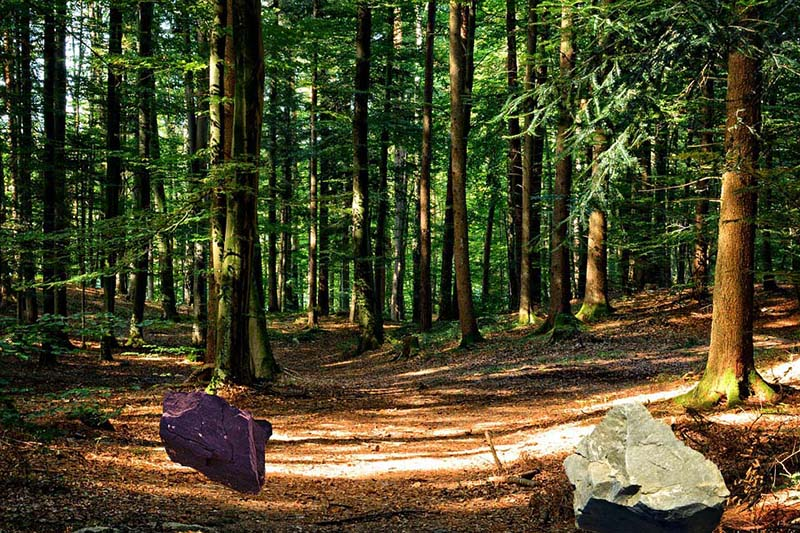Rocks: (550, 394, 746, 533), (151, 374, 282, 501)
